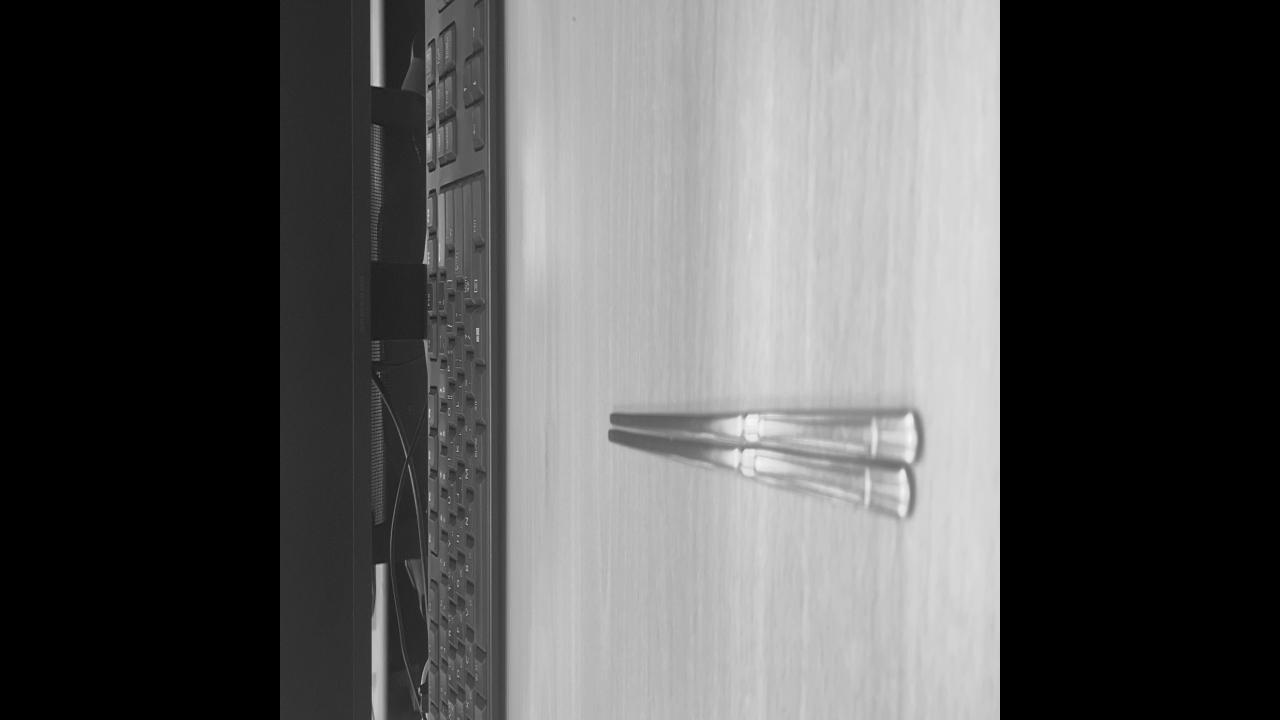chopstick: (610, 410, 916, 516)
